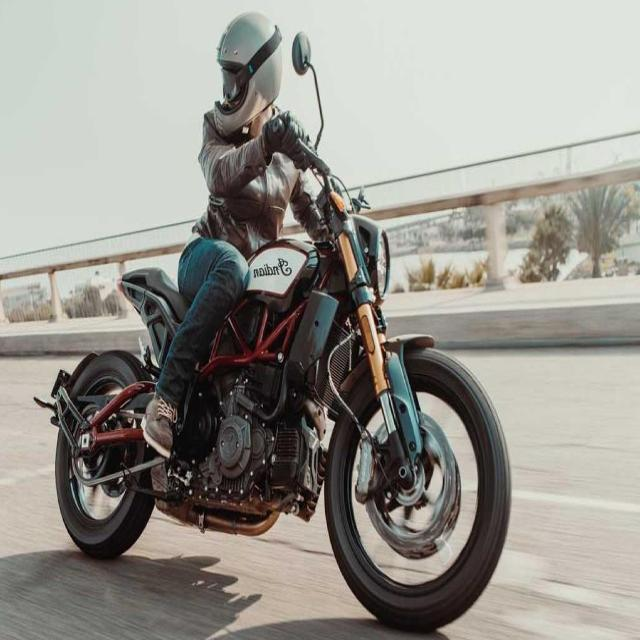motorcycle: (40, 12, 510, 630)
